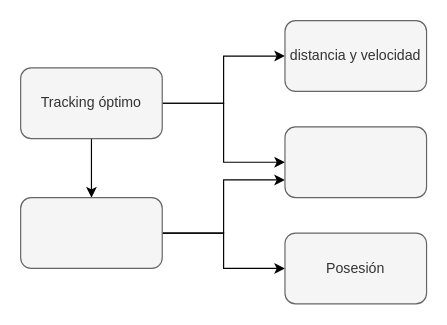
Image size: 447x325. Some labels were removed from this diagram. Here are the shapes that lost their labels. From the top down, the centre of each, then its label:
the point at 355,162: Mapa de calor
the point at 90,232: Clasificación de equipos (K-means)
